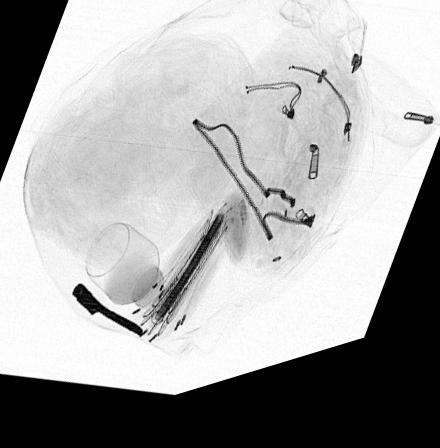Wrench: (71, 285, 149, 346)
